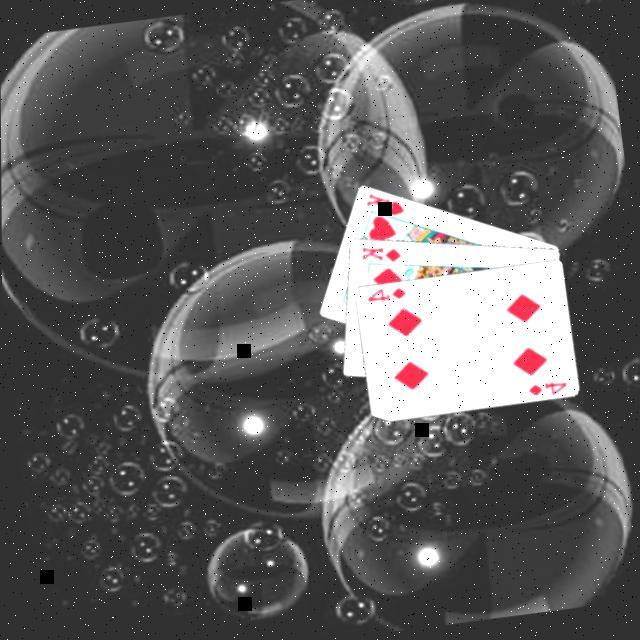4D: (359, 284, 407, 308), (522, 378, 568, 401)
KD: (353, 240, 402, 270)
KH: (357, 186, 405, 224)
